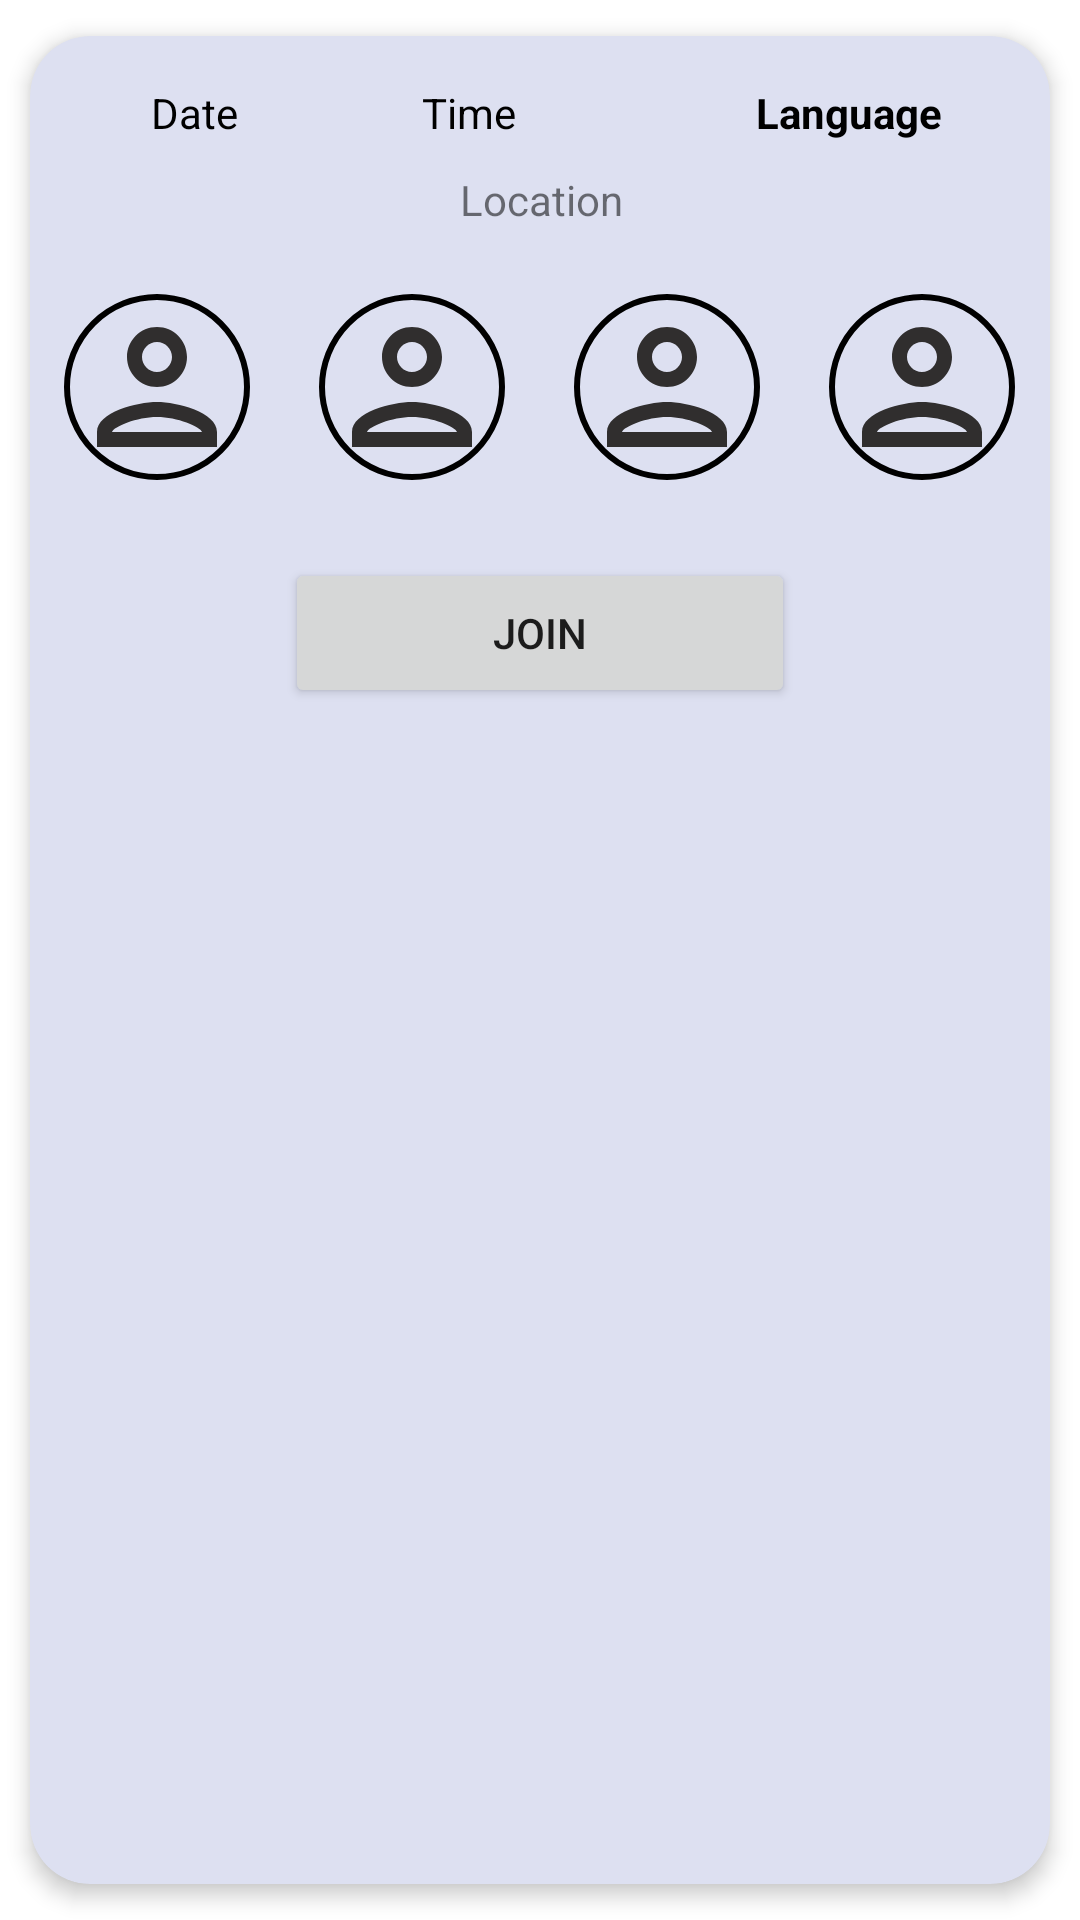

Named icons in this screenshot (1080*1920) and their bounding boxes, (x1, y1, x2, y2):
person: (64, 294, 250, 480), (319, 294, 505, 480), (574, 294, 760, 480), (829, 294, 1015, 480)
